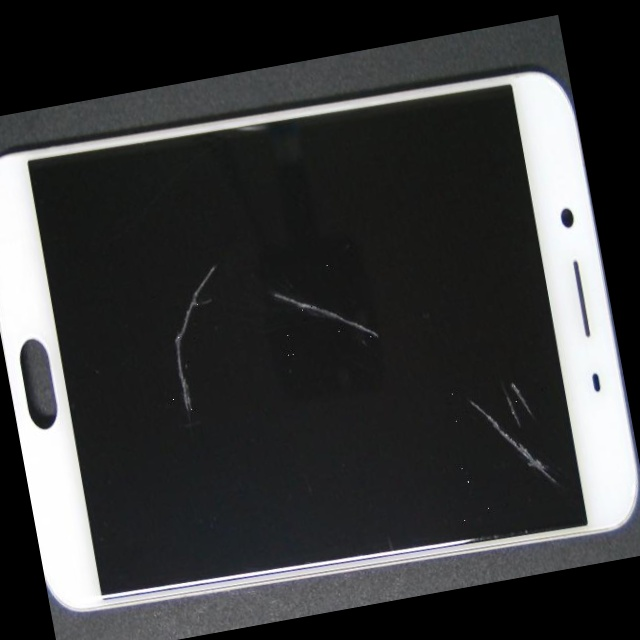scratch: (143, 125, 640, 632), (210, 164, 640, 621), (53, 128, 477, 488), (66, 138, 272, 461)
